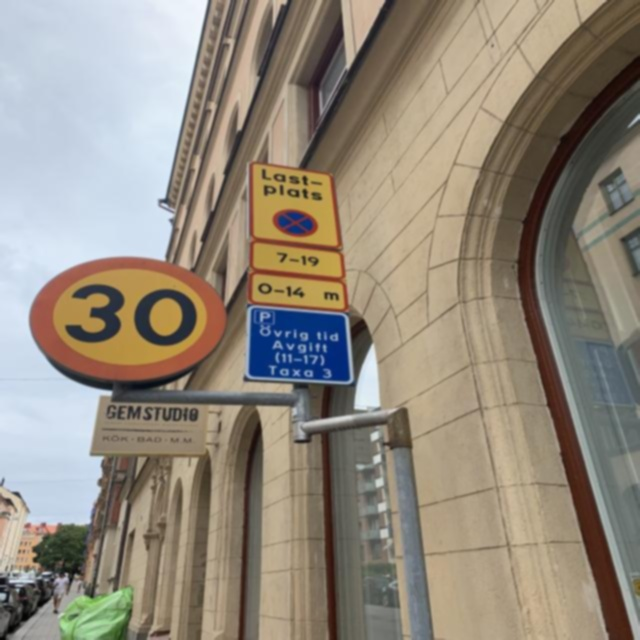lastplats: (245, 161, 345, 253)
